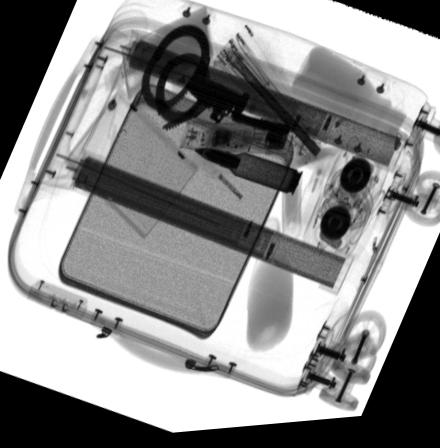Baton: (177, 122, 296, 160)
Bullet: (192, 151, 302, 201)
HandCuffs: (140, 26, 270, 138)
